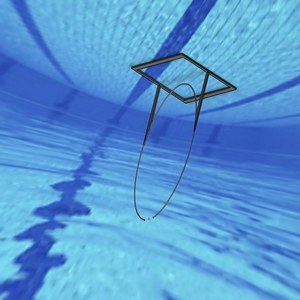circle: (128, 51, 237, 221)
